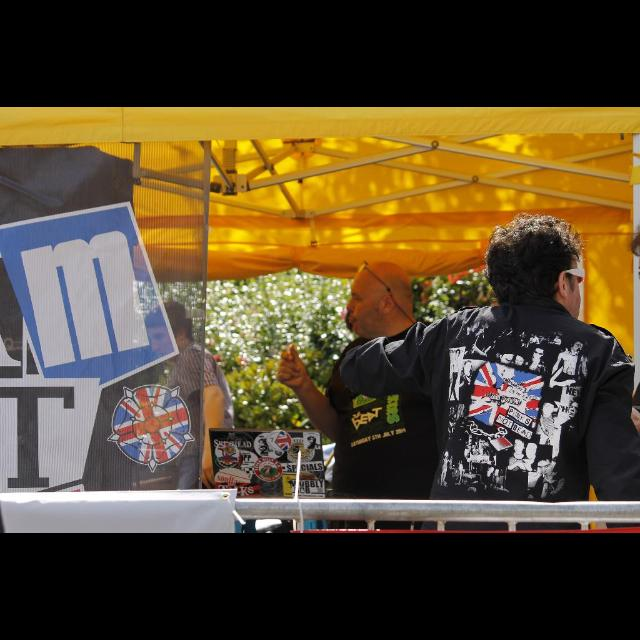Flower: (442, 264, 492, 286), (215, 354, 223, 360)
